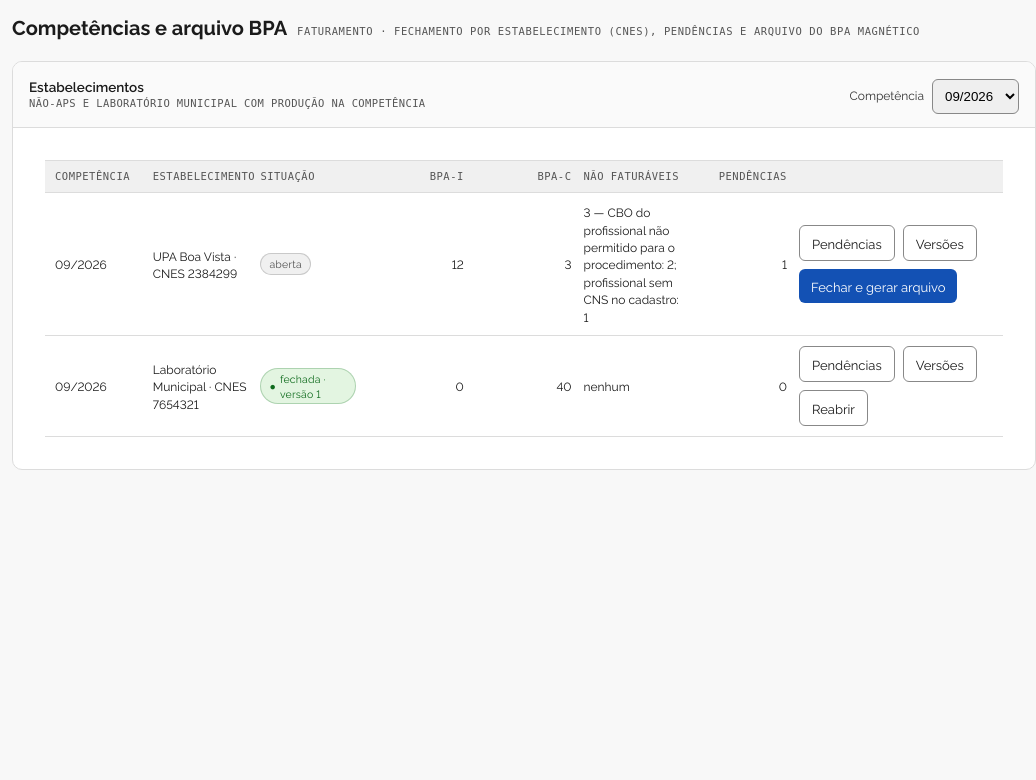
Test: BillingPeriods — fechamento, reabertura e arquivo › fechar com step-up: descreve, fecha, relê a lista e as versões
Click the button "Fechar e gerar arquivo" at (878, 286), box [799, 269, 957, 303]
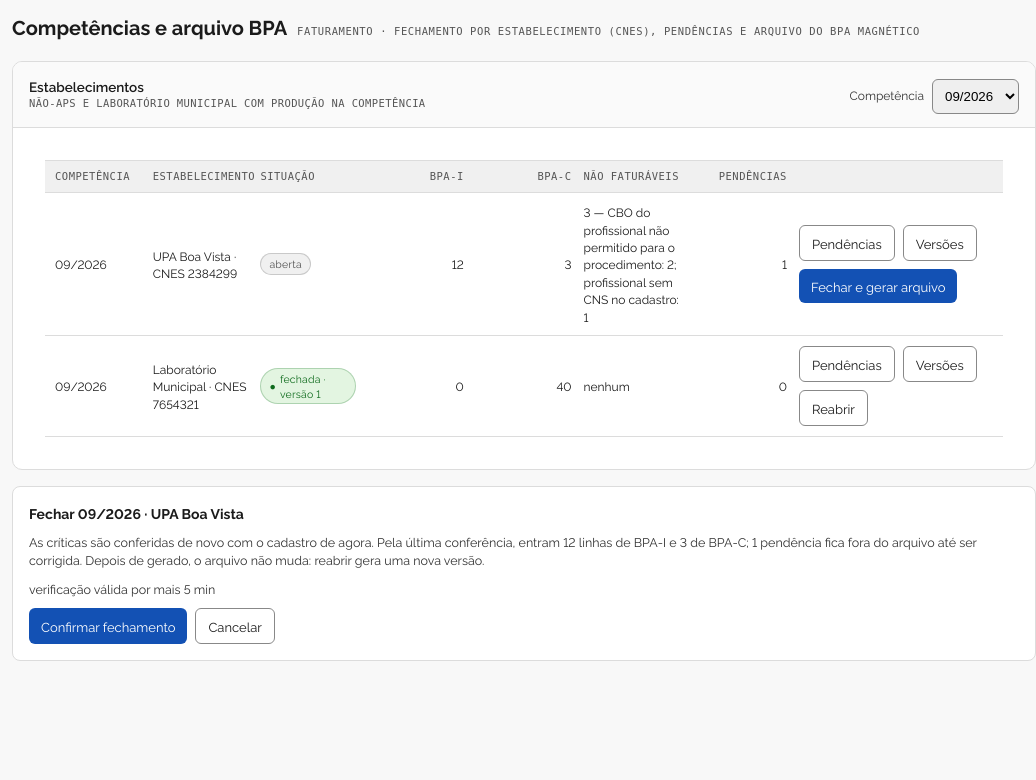
Result: the text "reabrir gera uma nova versão" is shown at [29, 533, 977, 568]
Click the button "Confirmar fechamento" at (108, 626), box [29, 608, 187, 644]
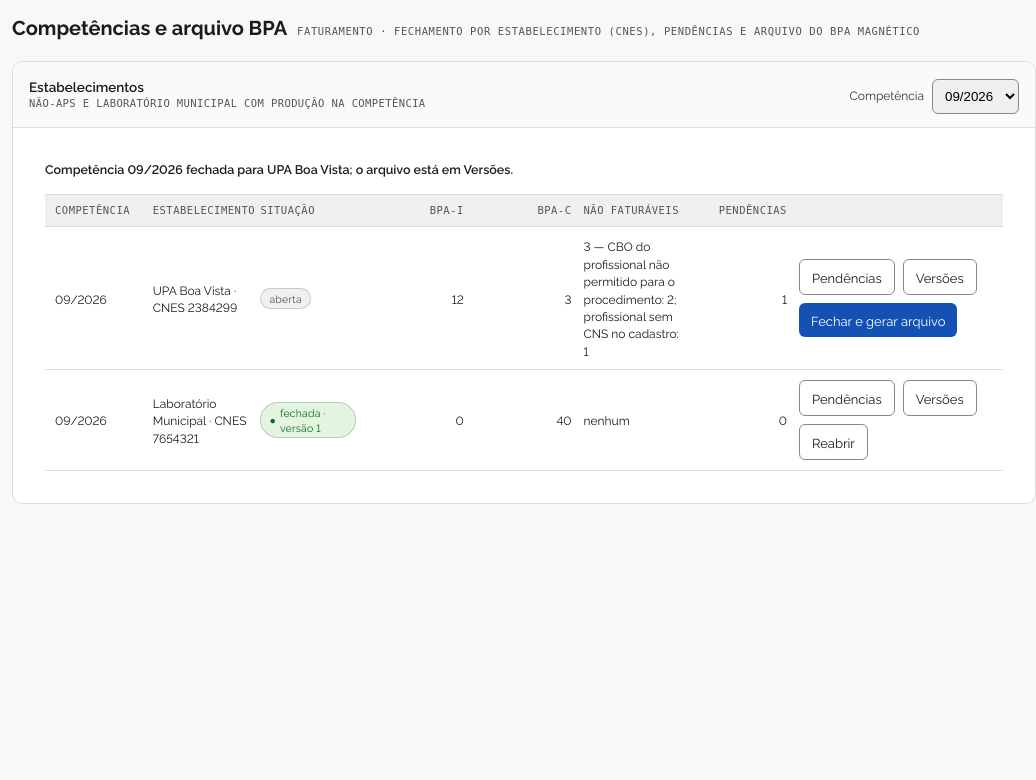
Result: the message reads "Competência 09/2026 fechada para UPA Boa Vista; o arquivo está em Versões." at [45, 160, 513, 177]
Result: the text "Fechar 09/2026 · UPA Boa Vista" is gone
